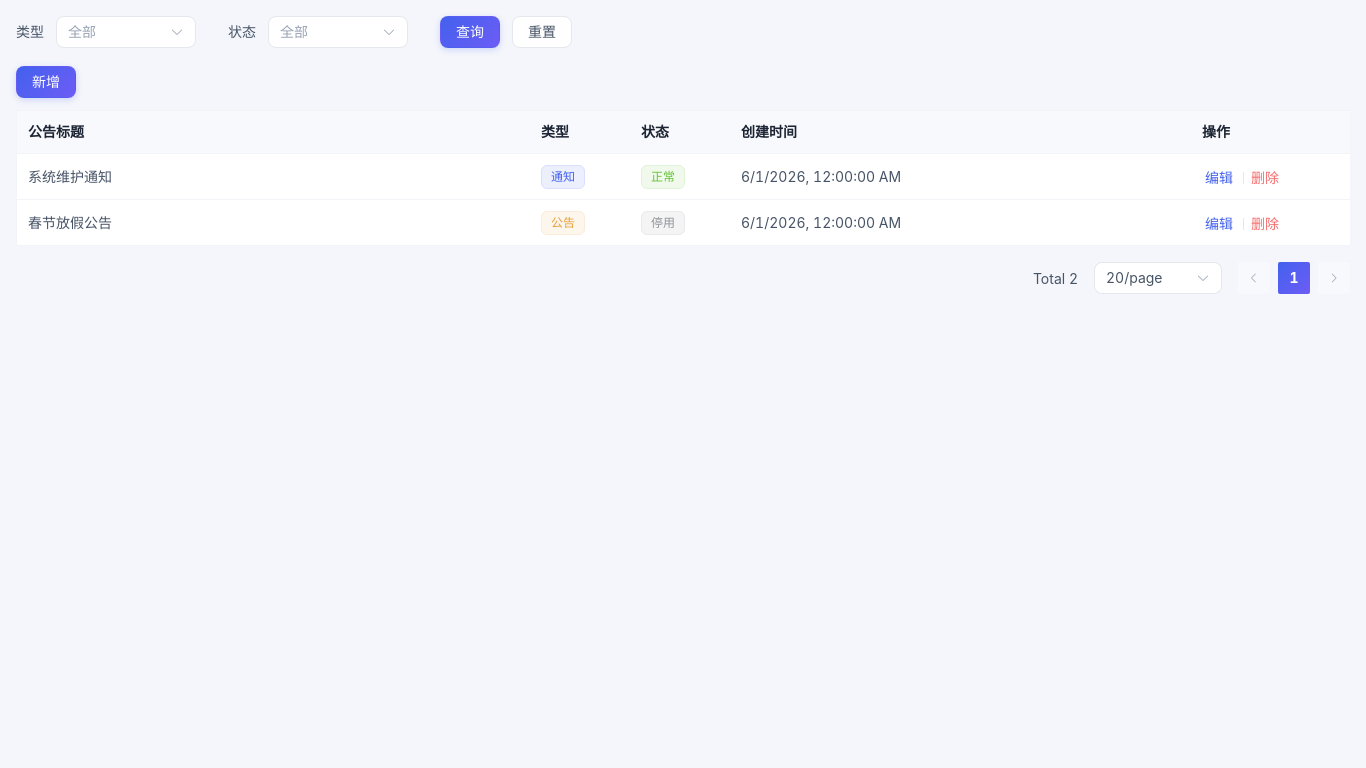
Test case: 通知公告页 › 点新增 → 打开对话框，content 用 textarea 而非 v-html
Step 1. Click the button "新增" → x=46, y=82, box [16, 66, 76, 98]
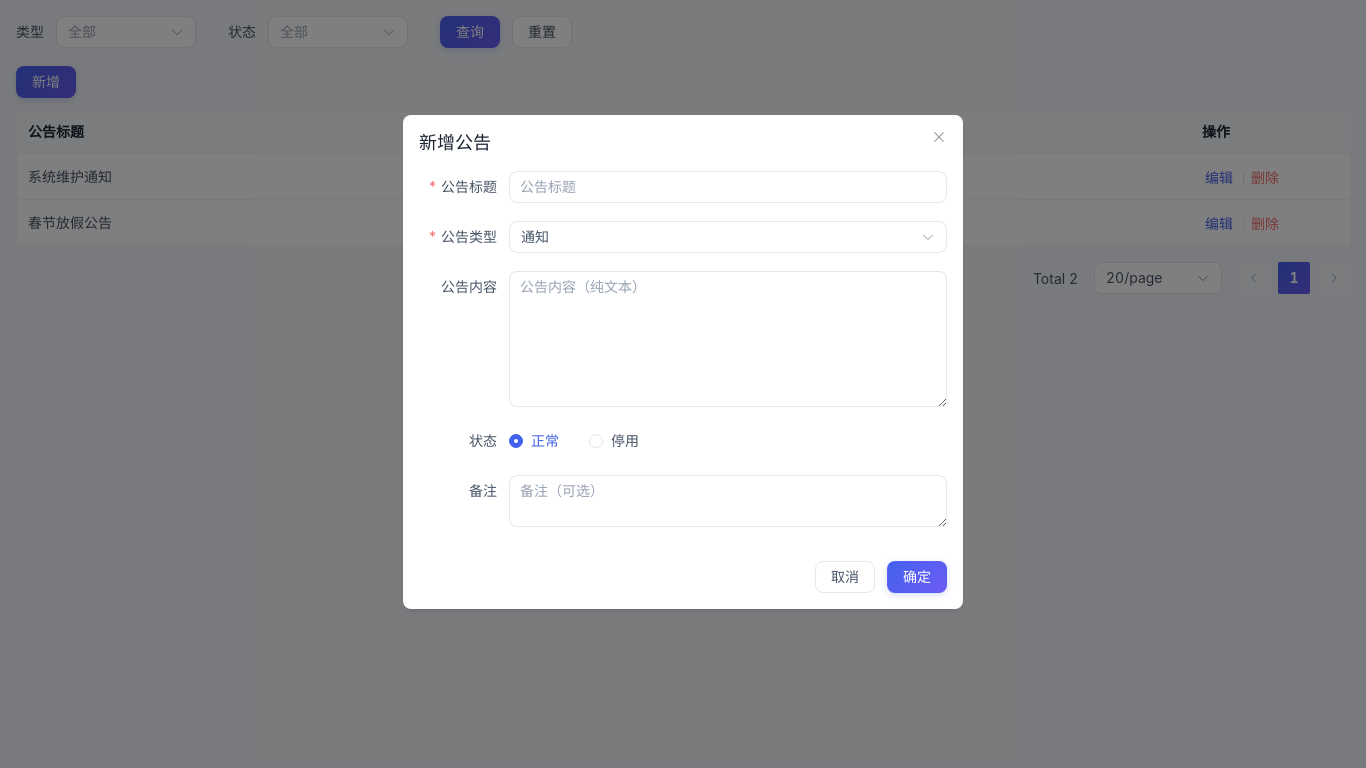
Now the text "新增公告" is shown, box [419, 132, 491, 153]
Now the text box labelled "公告内容" is shown, box [509, 271, 947, 407]
